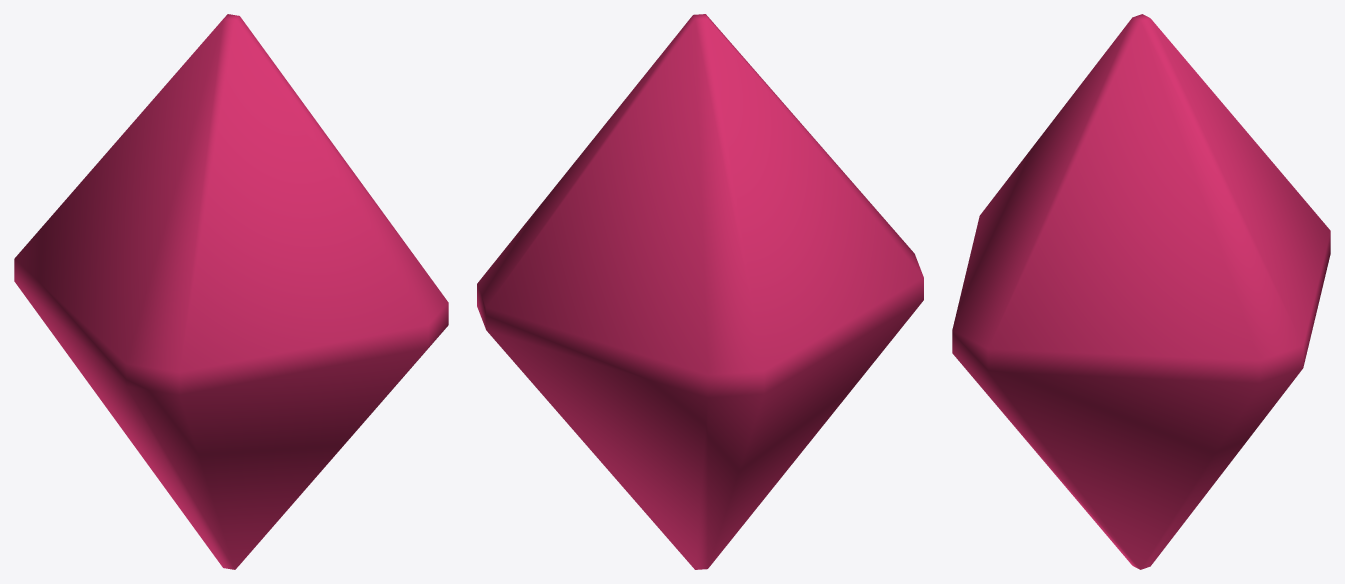
The model's file is ruby.glb.
3 renders of one model, left to right at view 1: azimuth 30°, elevation 25°; view 2: azimuth 150°, elevation 25°; view 3: azimuth 270°, elevation 25°, orthographic.
Parts seen in each view (by area): view 1: Gem_Pink; view 2: Gem_Pink; view 3: Gem_Pink.
Boxes of the visible parts, bbox=[...] form: Gem_Pink: bbox=[14, 14, 448, 569]; Gem_Pink: bbox=[477, 14, 923, 569]; Gem_Pink: bbox=[952, 14, 1330, 569].
Size of the model in its own units: 0.8654 by 1.38 by 0.8654.
